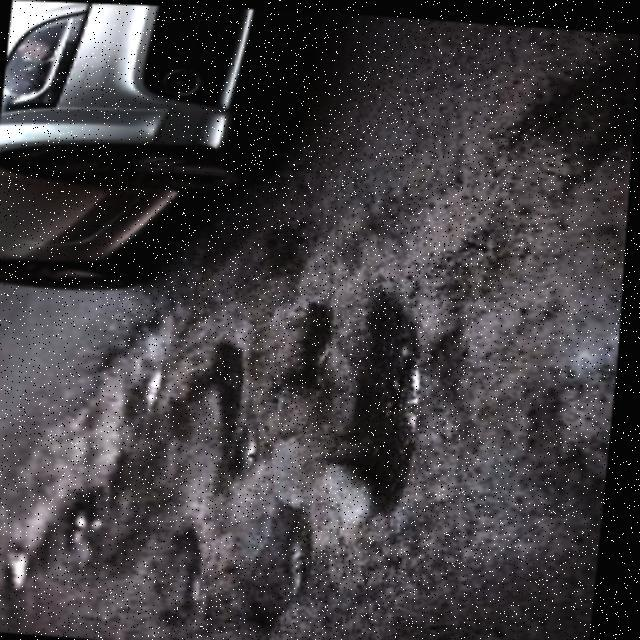pothole: (326, 286, 438, 508), (530, 22, 640, 164), (197, 332, 268, 461), (290, 300, 350, 392), (44, 482, 114, 558), (237, 488, 267, 628), (0, 544, 46, 594)
